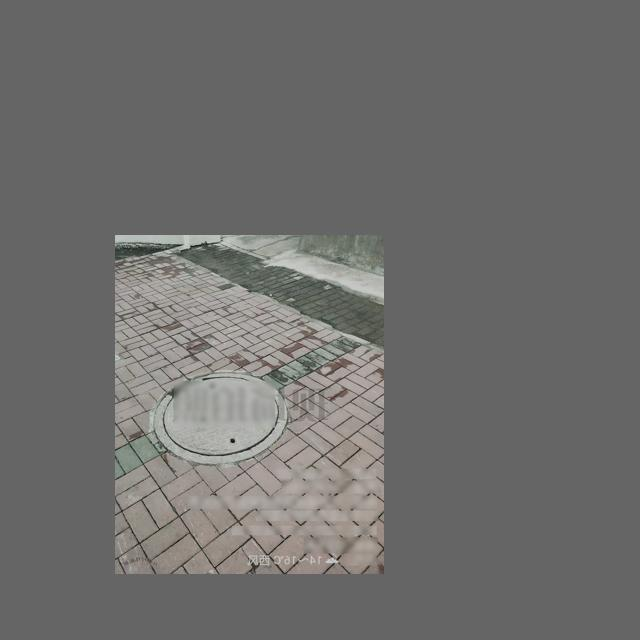circle: (152, 372, 291, 467)
